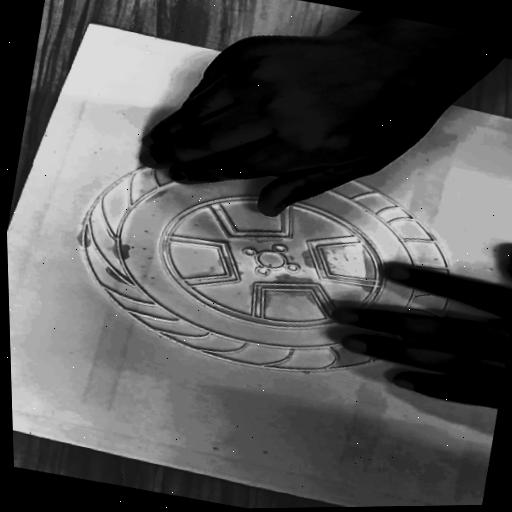tire: (38, 107, 485, 414)
top_left: (87, 18, 100, 28)
